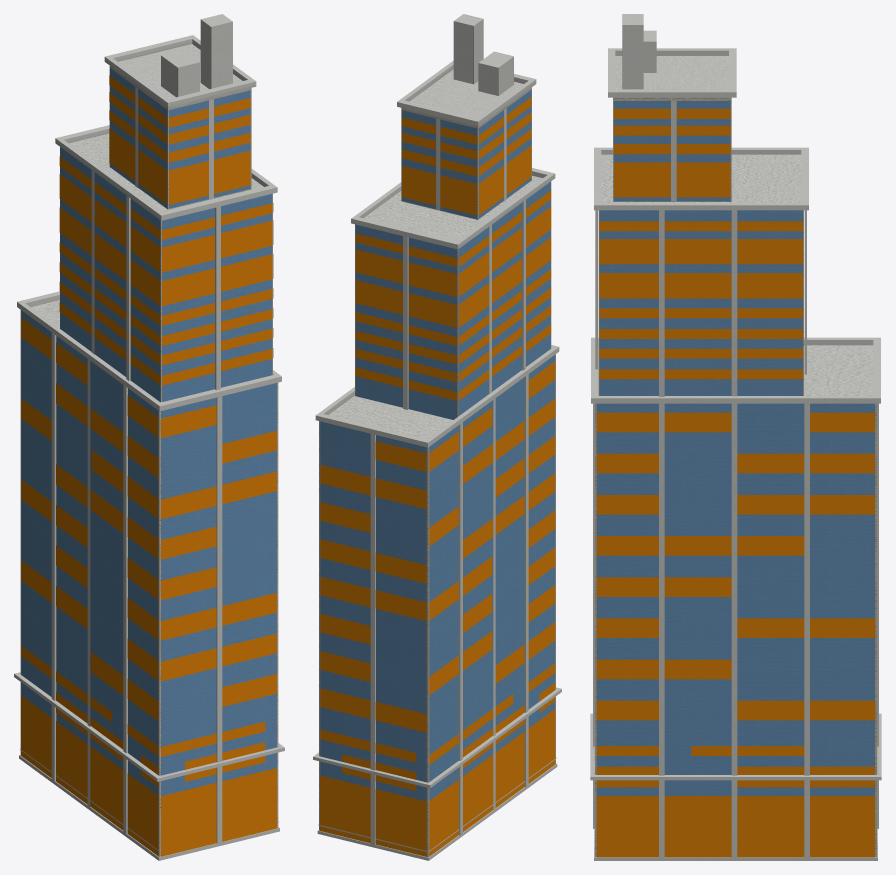
File: House_4.fbx
3 views of the same model, side by side, from view 1: azimuth 30°, elevation 25°; view 2: azimuth 150°, elevation 25°; view 3: azimuth 270°, elevation 25° (orthographic). The views are drawn at different scales.
Visible parts, largest first — view 1: House_4, Glass, GlassLighted; view 2: House_4, Glass, GlassLighted; view 3: House_4, Glass, GlassLighted.
Boxes of the visible parts, x1,y1,x2,y2 form: House_4: (14,14,284,860); Glass: (21,68,276,795); GlassLighted: (21,75,276,856); House_4: (313,14,561,860); Glass: (320,90,555,801); GlassLighted: (320,97,555,856); House_4: (590,14,881,860); Glass: (596,101,874,795); GlassLighted: (596,108,875,857).
Size of the model in its own units: 53.53 by 324 by 104.
